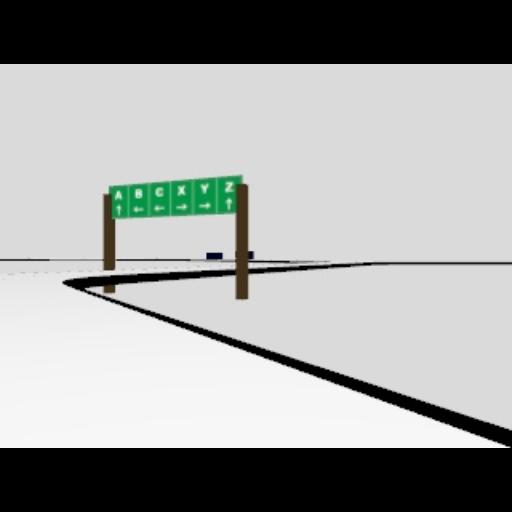A: (114, 188, 122, 200)
B: (133, 188, 143, 198)
C: (153, 186, 163, 196)
Left: (132, 205, 144, 211), (154, 205, 164, 211)
Right: (198, 202, 212, 208), (174, 203, 188, 209)
Straight: (224, 196, 232, 210), (115, 204, 121, 214)
X: (176, 184, 186, 196)
Y: (200, 182, 208, 194)
Z: (224, 180, 234, 192)
